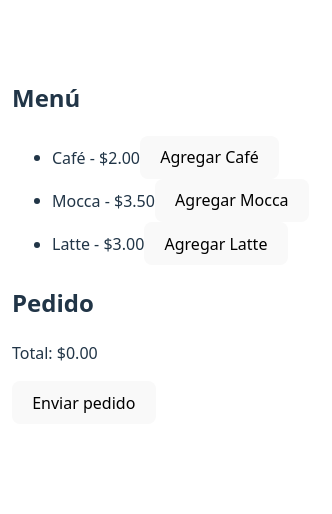
test completo: cargar menú, agregar, total, enviar y reset
Click the button "Agregar Café" at (210,157), box [140, 136, 279, 179]
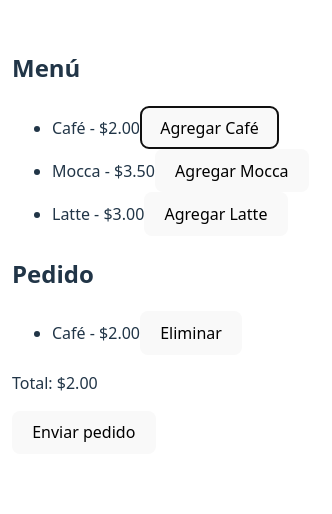
Click the button "Agregar Mocca" at (232,171), box [155, 149, 309, 192]
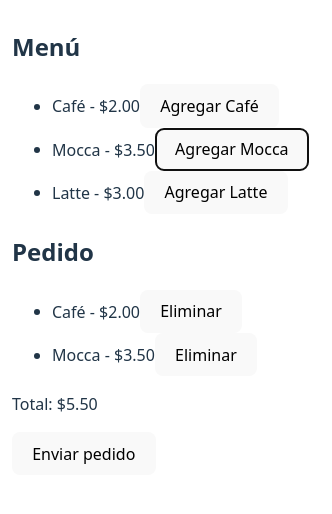
Click the button "Agregar Latte" at (216,192), box [144, 171, 288, 214]
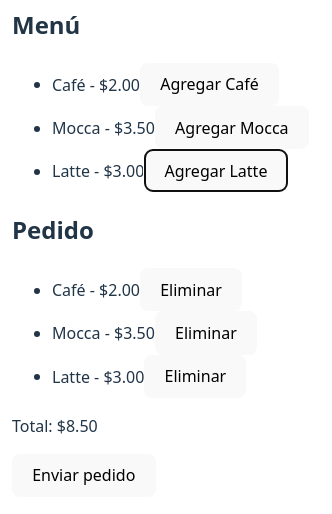
Expected: the list named "pedido" shows "Café", [52, 279, 86, 301]
Expected: the list named "pedido" shows "Mocca", [52, 322, 100, 344]
Expected: the list named "pedido" shows "Latte", [52, 365, 90, 387]
Click the button "Enviar pedido" at (84,475), box [12, 454, 156, 497]
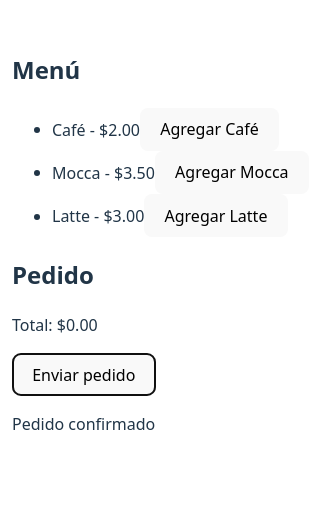
Expected: the text "Pedido confirmado" is shown, [12, 413, 155, 435]
Expected: the text "Total: $0.00" is shown, [12, 314, 98, 336]
